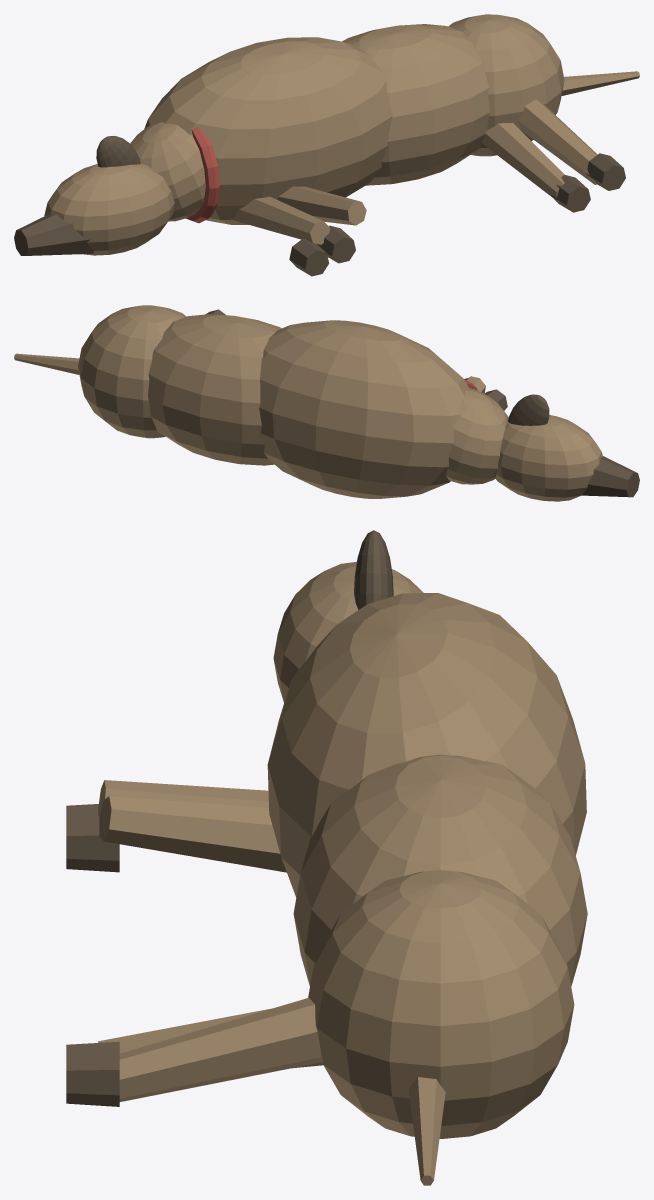
Rendered from dead_dog.glb.
3 views of the same model, one above another, from view 1: azimuth 30°, elevation 25°; view 2: azimuth 150°, elevation 25°; view 3: azimuth 270°, elevation 25° (orthographic). The views are drawn at different scales.
Visible parts, largest first — view 1: chest, belly, head, rump, neck, leg2, leg3, leg0, muzzle, leg1, collar, ear-1 (+5 smaller); view 2: chest, belly, rump, head, neck, muzzle, ear-1, tail; view 3: rump, chest, belly, leg3, leg1, head, leg0, paw3, tail, paw1, ear-1, leg2.
Boxes of the visible parts, bbox=[...] form: chest: bbox=[144, 37, 392, 224]; belly: bbox=[342, 24, 489, 185]; head: bbox=[44, 163, 174, 255]; rump: bbox=[448, 14, 564, 156]; neck: bbox=[130, 122, 205, 221]; leg2: bbox=[482, 122, 564, 201]; leg3: bbox=[517, 99, 597, 184]; leg0: bbox=[233, 196, 329, 244]; muzzle: bbox=[14, 214, 93, 255]; leg1: bbox=[277, 186, 366, 225]; collar: bbox=[186, 127, 219, 223]; ear-1: bbox=[96, 136, 140, 167]; chest: bbox=[259, 320, 468, 498]; belly: bbox=[148, 314, 281, 465]; rump: bbox=[78, 305, 186, 438]; head: bbox=[495, 415, 602, 501]; neck: bbox=[446, 388, 508, 484]; muzzle: bbox=[581, 456, 639, 497]; ear-1: bbox=[508, 394, 549, 425]; tail: bbox=[14, 353, 79, 374]; rump: bbox=[308, 870, 574, 1138]; chest: bbox=[267, 593, 586, 897]; belly: bbox=[293, 754, 587, 986]; leg3: bbox=[119, 998, 321, 1101]; leg1: bbox=[99, 796, 286, 872]; head: bbox=[273, 561, 423, 702]; leg0: bbox=[98, 780, 268, 816]; paw3: bbox=[66, 1049, 119, 1106]; tail: bbox=[408, 1077, 445, 1185]; paw1: bbox=[66, 816, 119, 872]; ear-1: bbox=[354, 530, 393, 609]; leg2: bbox=[98, 1008, 322, 1068].
Bounding box in the file's own units: 2.06 × 0.5128 × 0.78.
